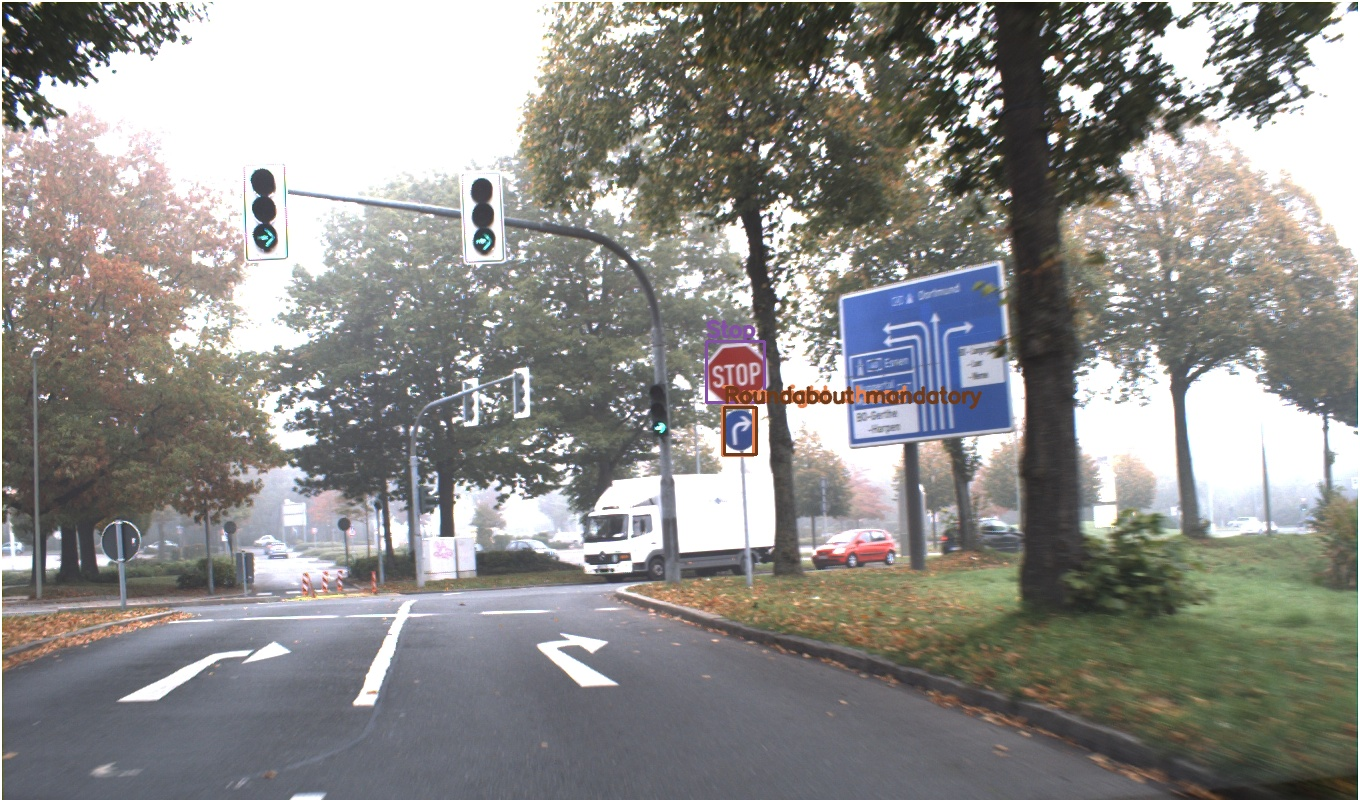Right-of-way at the next intersection: (762, 459, 792, 489)
